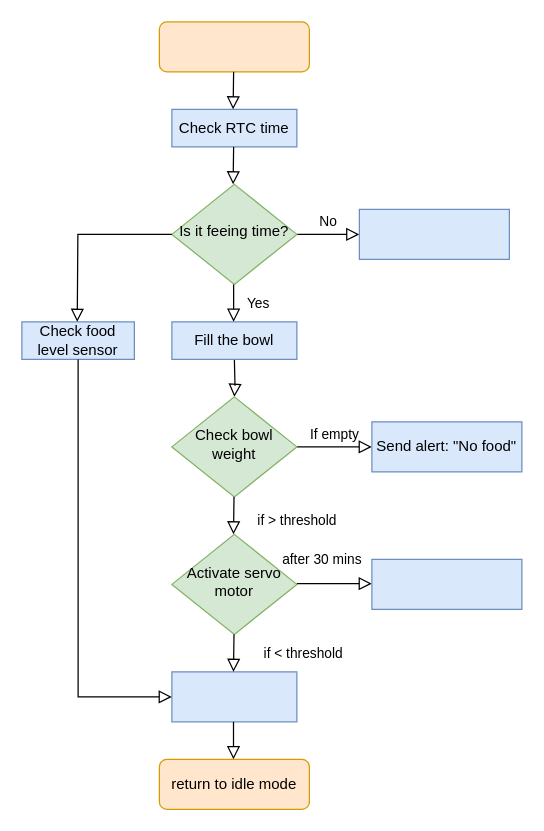
Image size: 544x831. Some labels were removed from this diagram. Each missing label, with the centre of its shape:
Send alert: "Not eaten": point 446,583
Start (Power on): point 233,46
Update status: display "feeding complete": point 234,696
Wait: point 433,233
